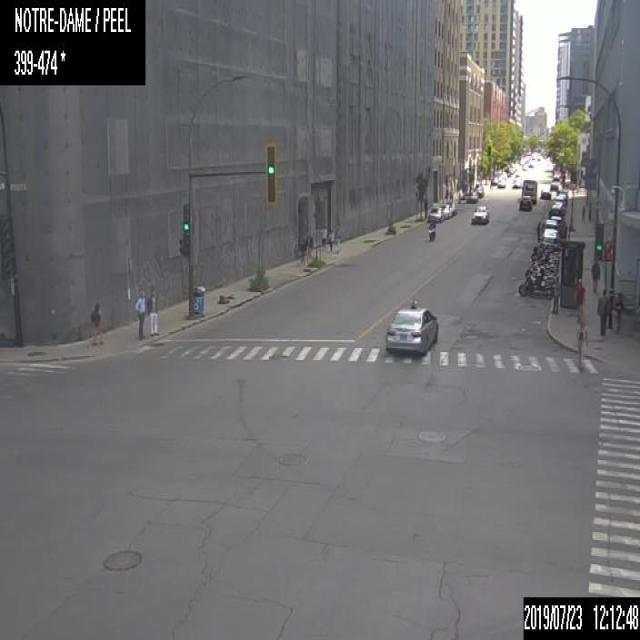construction: (218, 292, 235, 304)
pedestrian: (573, 306, 586, 362), (134, 285, 146, 340), (596, 287, 609, 336), (146, 286, 158, 336), (89, 298, 102, 342), (614, 290, 626, 334), (573, 276, 585, 314), (591, 258, 600, 293), (550, 276, 558, 312), (299, 234, 307, 264), (320, 224, 328, 250), (328, 228, 334, 254), (308, 232, 313, 259), (580, 204, 585, 224), (587, 200, 592, 220), (536, 220, 541, 240)
vehicle: (384, 304, 439, 356), (518, 274, 551, 296), (524, 258, 558, 276), (548, 215, 566, 238), (520, 178, 536, 203), (532, 242, 560, 254), (471, 204, 488, 223), (530, 249, 559, 260), (541, 219, 557, 238), (427, 206, 443, 221), (519, 194, 531, 210), (439, 202, 451, 218), (465, 190, 478, 203), (428, 220, 436, 240), (446, 201, 458, 214), (548, 204, 561, 215), (555, 193, 566, 205), (540, 187, 550, 199), (556, 188, 567, 198), (475, 184, 483, 196), (511, 178, 520, 188), (549, 181, 558, 190), (554, 201, 563, 210), (497, 177, 505, 187)
